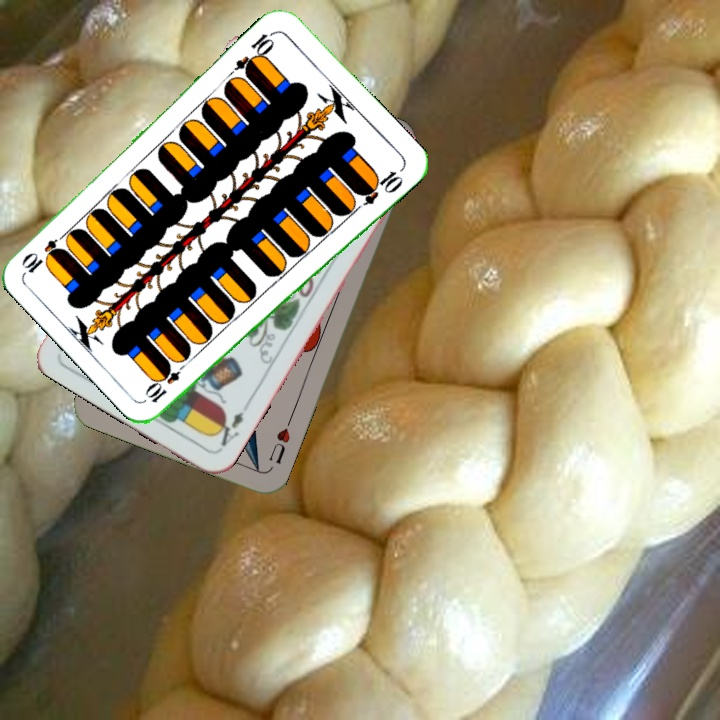E10: (142, 356, 191, 406), (231, 27, 278, 78)
EA: (210, 407, 246, 453)
HU: (264, 414, 295, 467)
